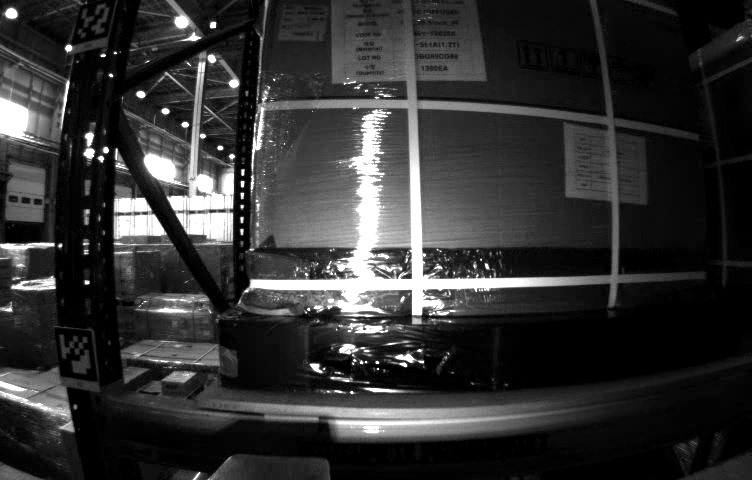True Barcode: (282, 1, 326, 42)
